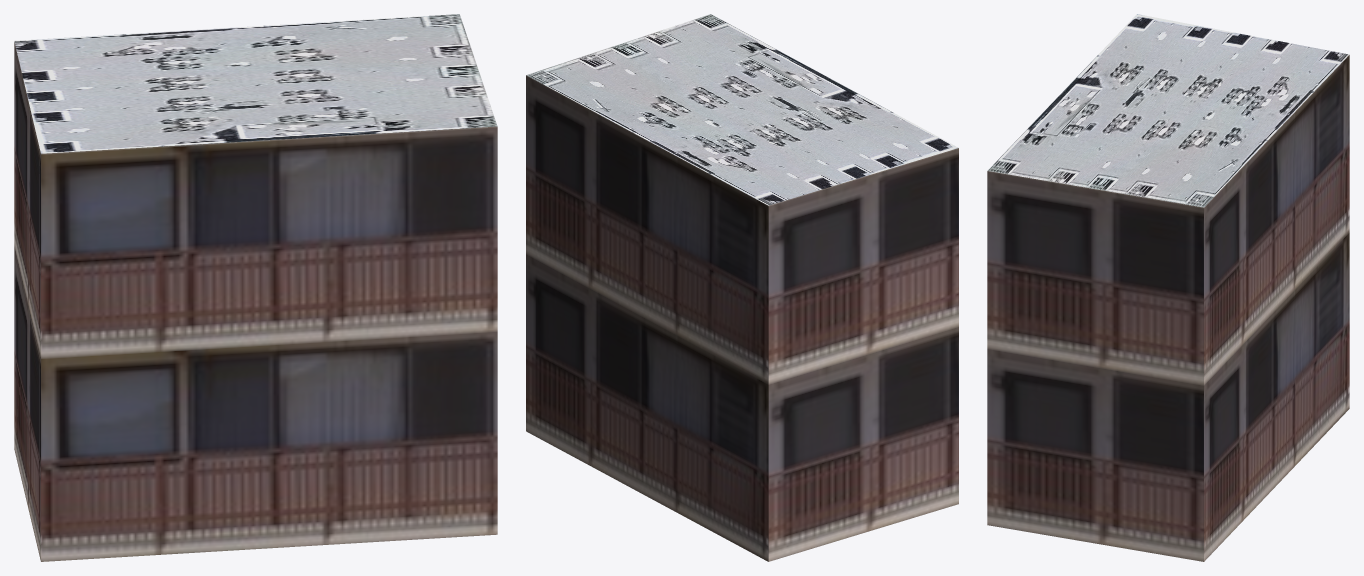
Rendered from ResTex__883.fbx.
3 views of the same model, side by side, from view 1: azimuth 30°, elevation 25°; view 2: azimuth 150°, elevation 25°; view 3: azimuth 270°, elevation 25° (orthographic). The views are drawn at different scales.
Parts seen in each view (by area): view 1: CityEngineMaterial_6_m, CityEngineMaterial_2_m; view 2: CityEngineMaterial_6_m, CityEngineMaterial_2_m; view 3: CityEngineMaterial_6_m, CityEngineMaterial_2_m.
Part boxes in pixels (box(x1,y1,x2,y2)): CityEngineMaterial_6_m: box(14, 42, 497, 561); CityEngineMaterial_2_m: box(14, 14, 497, 153); CityEngineMaterial_6_m: box(526, 75, 958, 561); CityEngineMaterial_2_m: box(526, 14, 958, 205); CityEngineMaterial_6_m: box(987, 55, 1349, 561); CityEngineMaterial_2_m: box(987, 14, 1349, 207).
Size of the model in its own units: 7.04 by 6 by 5.56.
Materials: 2 (2 with a texture image).
